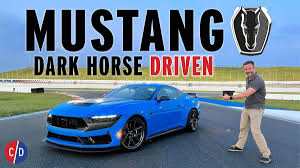car: (44, 81, 201, 153)
